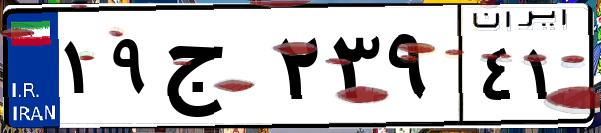1: (57, 26, 110, 100), (525, 38, 570, 115)
2: (270, 28, 330, 110)
3: (330, 28, 385, 110)
4: (475, 38, 525, 113)
9: (385, 28, 445, 110), (110, 28, 158, 98)
ج: (158, 20, 270, 120)
